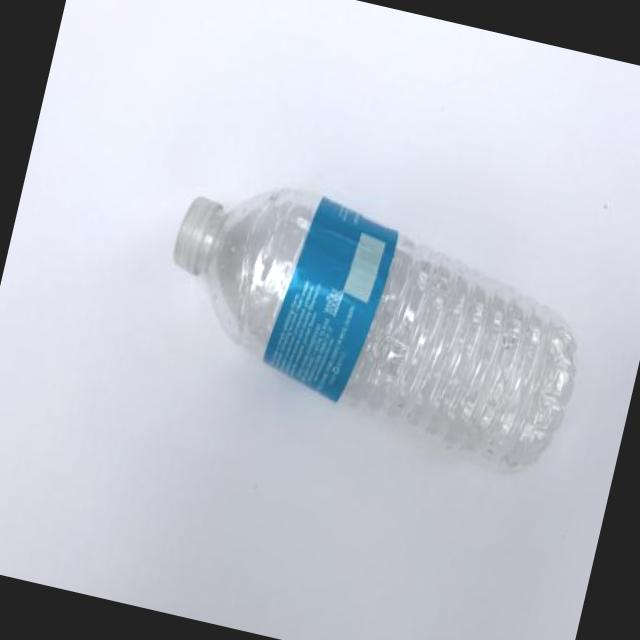Recycle: (138, 160, 604, 478)
